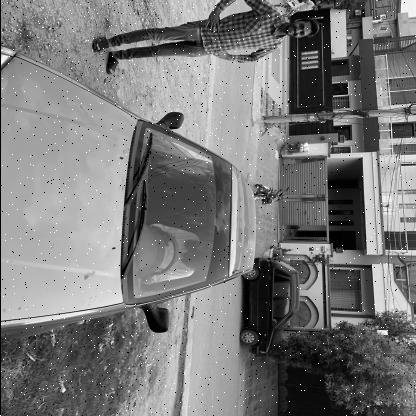no_seatbelt: (155, 235, 214, 275)
